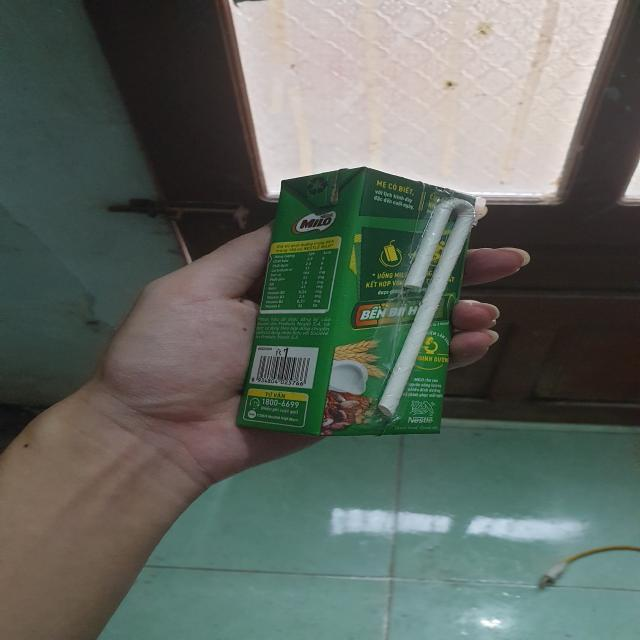Milo: (247, 166, 484, 434)
